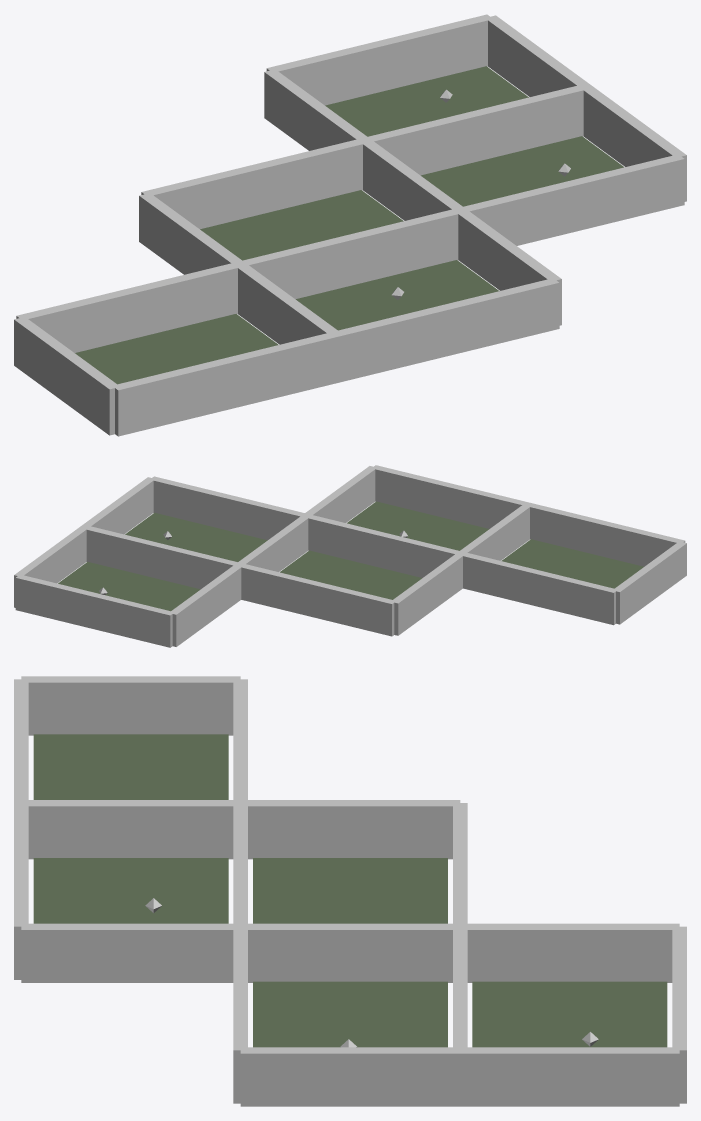
Rendered from layout_main.obj.
3 renders of one model, top to bottom at view 1: azimuth 30°, elevation 25°; view 2: azimuth 150°, elevation 25°; view 3: azimuth 270°, elevation 25°, orthographic. The views are drawn at different scales.
Visible parts, largest first — view 1: walls, floors, loot_2, loot_3; view 2: walls, floors, loot_2, loot_3; view 3: walls, floors, loot_2, loot_3.
Boxes of the visible parts, bbox=[...] form: walls: bbox=[14, 139, 561, 436]; floors: bbox=[75, 66, 623, 384]; loot_2: bbox=[264, 14, 590, 299]; loot_3: bbox=[440, 85, 686, 245]; walls: bbox=[236, 465, 686, 636]; floors: bbox=[58, 501, 643, 611]; loot_2: bbox=[14, 526, 407, 647]; loot_3: bbox=[81, 476, 306, 594]; walls: bbox=[14, 676, 467, 982]; floors: bbox=[33, 734, 667, 1047]; loot_2: bbox=[145, 898, 686, 1106]; loot_3: bbox=[233, 930, 598, 1106].
Bounding box in the file's own units: 36.6 × 2.45 × 27.6.
